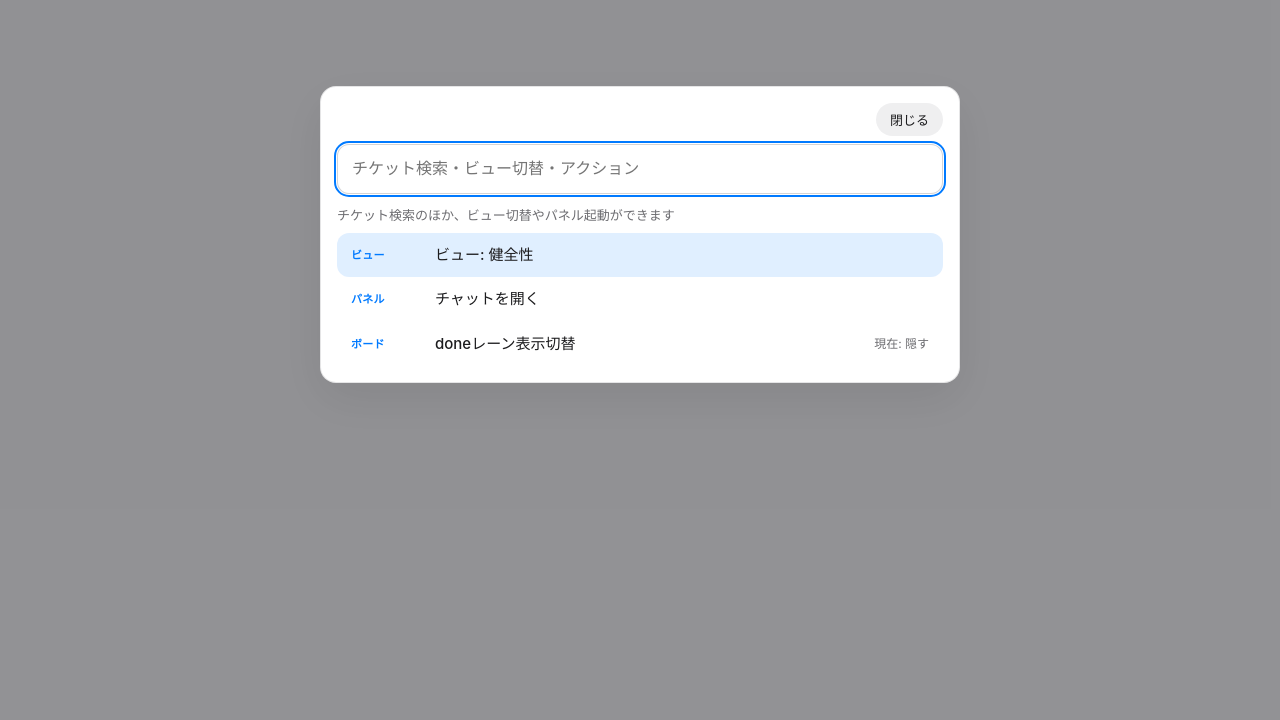
Test: SearchPalette › shows empty state when search returns no hits and no actions match
Step 1. Type "missing-xyz" into the search field named "検索クエリ" → (640, 169), box [337, 144, 943, 194]
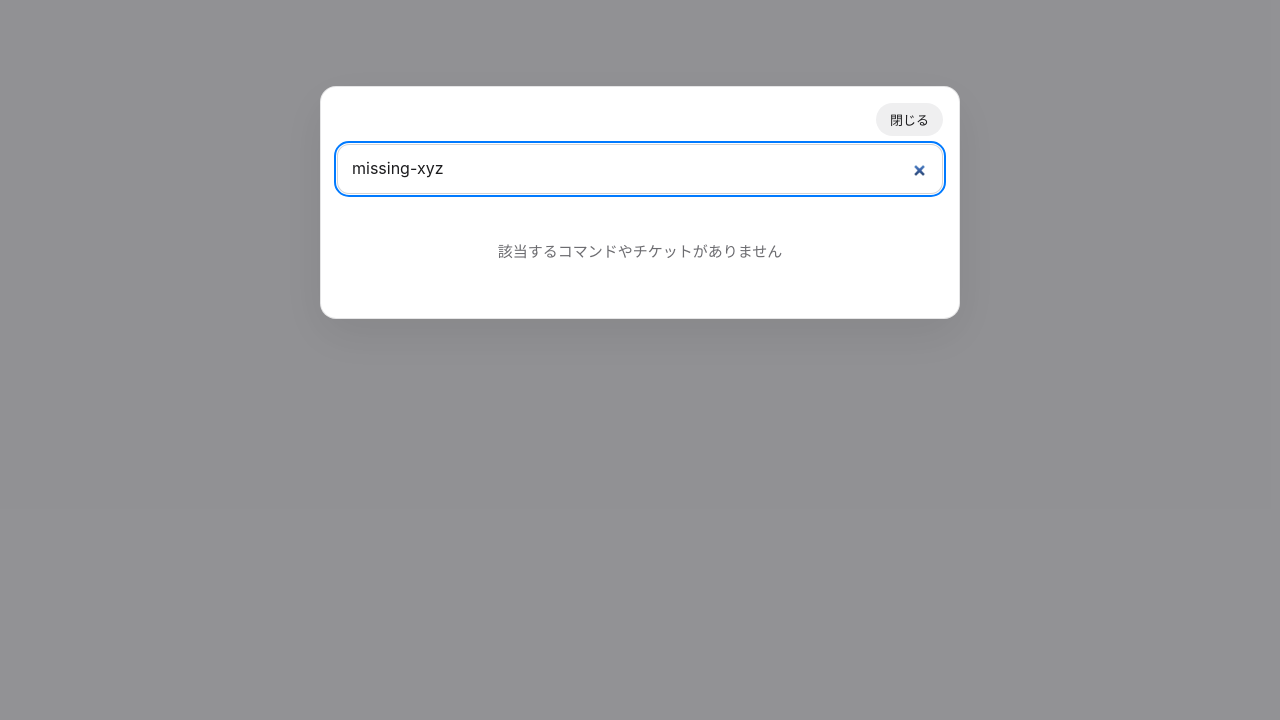
Result: the text "該当するコマンドやチケットがありません" is shown at [498, 242, 782, 261]
